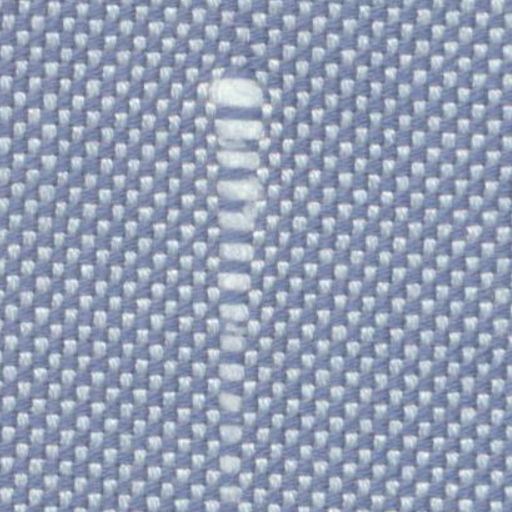DaiSha: (192, 69, 272, 464)
